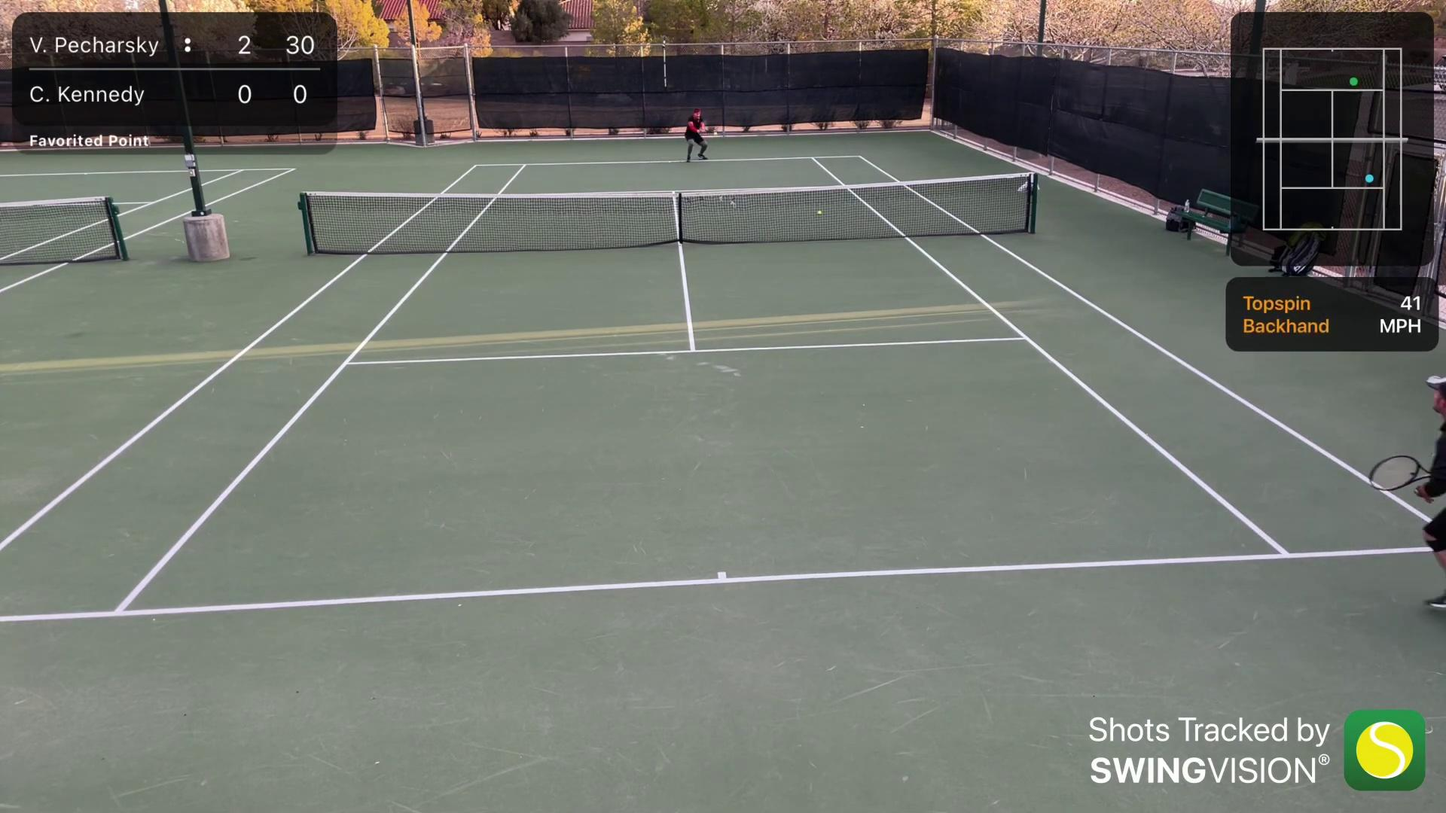ball: (712, 131, 719, 136), (817, 210, 822, 216)
